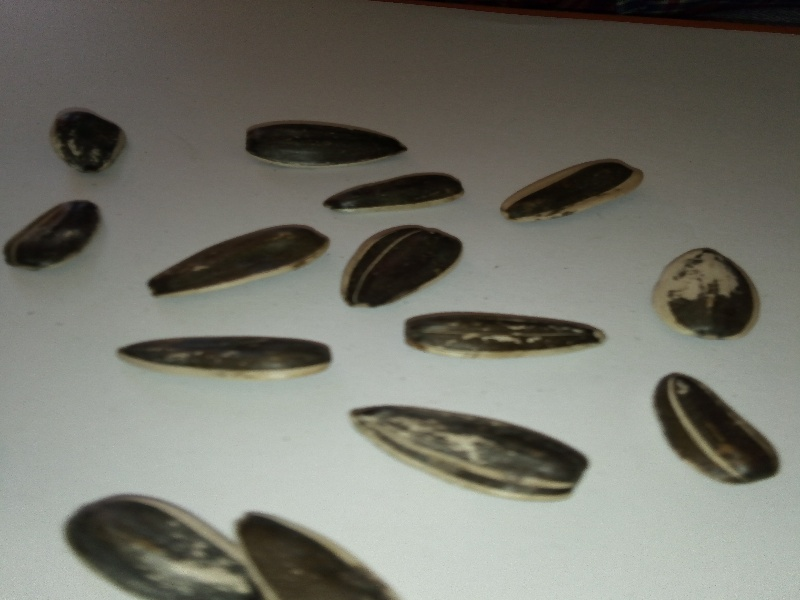w: (338, 398, 616, 510), (636, 365, 789, 493), (141, 211, 335, 301), (490, 140, 649, 230), (401, 303, 614, 370), (646, 242, 777, 345), (104, 331, 341, 386), (330, 218, 470, 309), (231, 117, 414, 168), (41, 102, 134, 179)
